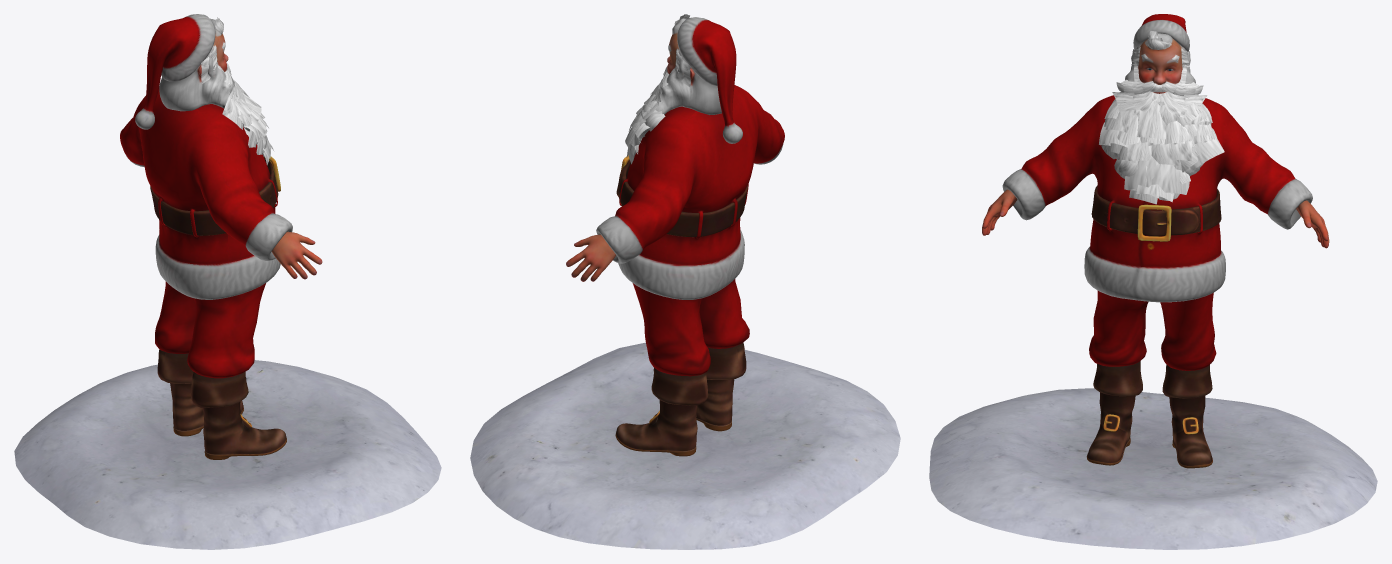
File: santa.glb
The picture shows the model from 3 angles, left to right: view 1: azimuth 30°, elevation 25°; view 2: azimuth 150°, elevation 25°; view 3: azimuth 270°, elevation 25°; orthographic projection.
Parts seen in each view (by area): view 1: U3DMesh; view 2: U3DMesh; view 3: U3DMesh.
Boxes of the visible parts, x1=… form: U3DMesh: x1=14, y1=14, x2=441, y2=549; U3DMesh: x1=470, y1=14, x2=900, y2=549; U3DMesh: x1=929, y1=14, x2=1377, y2=549.
Bounding box in the file's own units: 5.12 × 6.44 × 5.77.
Materials: 2 (2 with a texture image).
